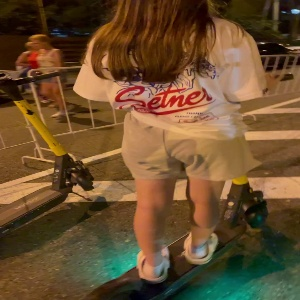human on a scooter: (73, 1, 294, 300)
